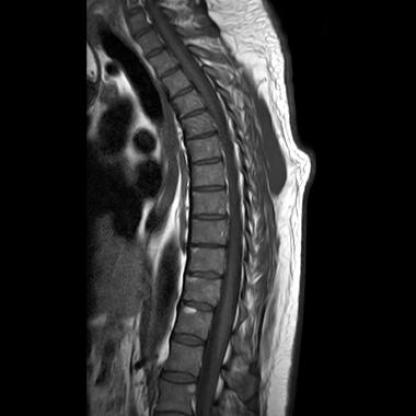Disc Protrusionrotation: (173, 89, 205, 118), (187, 128, 221, 143)
